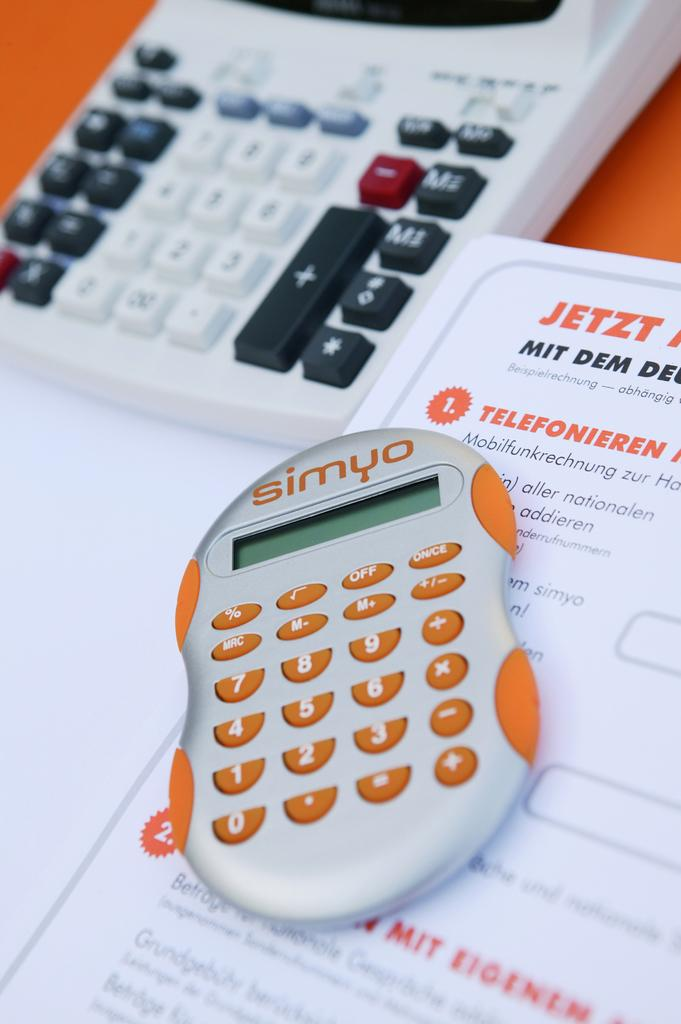Computer-keyboard: (1, 0, 678, 446)
